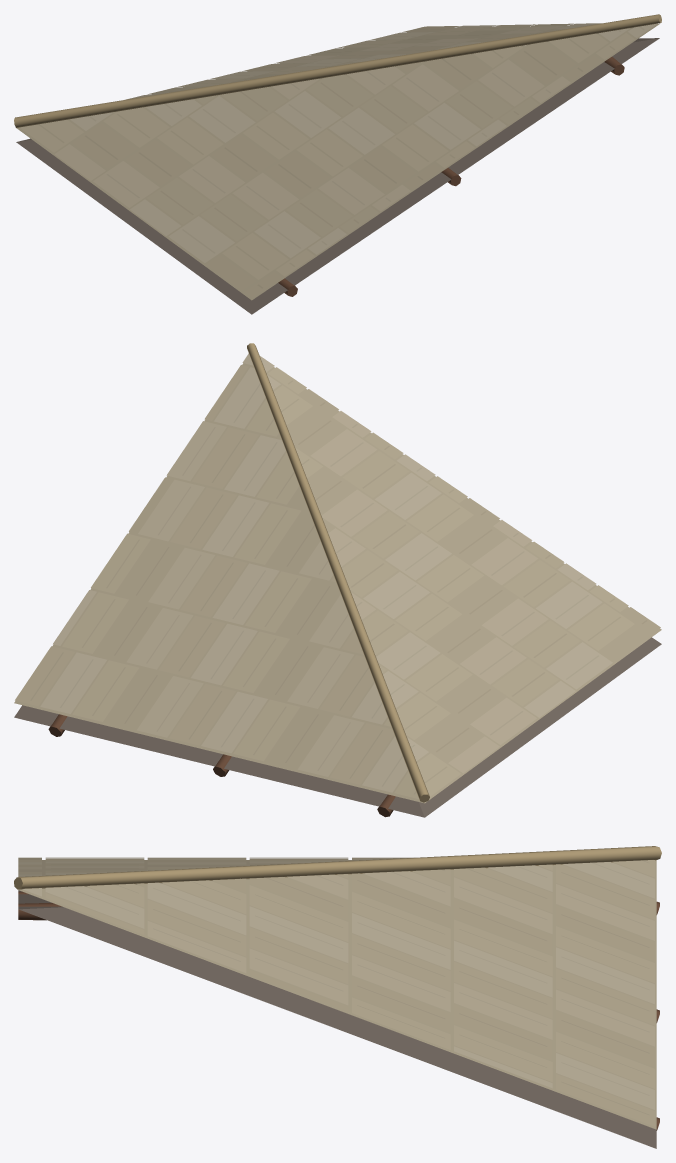
The model's file is Roof_Hip_22p5.glb.
3 renders of one model, top to bottom at view 1: azimuth 30°, elevation 25°; view 2: azimuth 150°, elevation 25°; view 3: azimuth 270°, elevation 25°, orthographic. The views are drawn at different scales.
Parts seen in each view (by area): view 1: _MeshInstance3D_3531, _MeshInstance3D_3538; view 2: _MeshInstance3D_3531, _MeshInstance3D_3538; view 3: _MeshInstance3D_3531, _MeshInstance3D_3538.
Boxes of the visible parts, x1,y1,x2,y2 form: _MeshInstance3D_3531: (16, 23, 659, 314); _MeshInstance3D_3538: (14, 14, 661, 127); _MeshInstance3D_3531: (14, 353, 661, 817); _MeshInstance3D_3538: (247, 343, 429, 802); _MeshInstance3D_3531: (18, 857, 656, 1148); _MeshInstance3D_3538: (14, 846, 661, 889).
Size of the model in its own units: 3.05 by 1.48 by 3.05.
